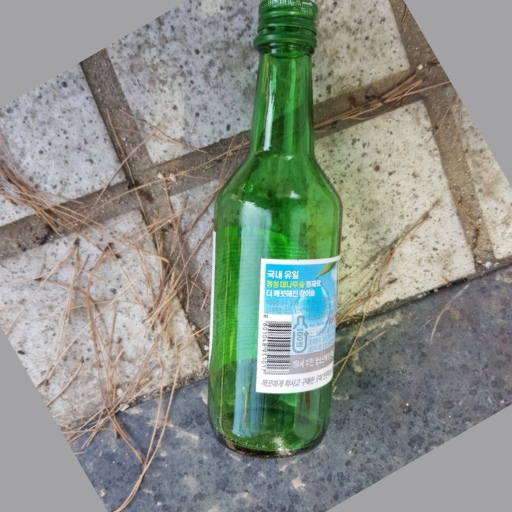Glass_0: (212, 4, 343, 459)
